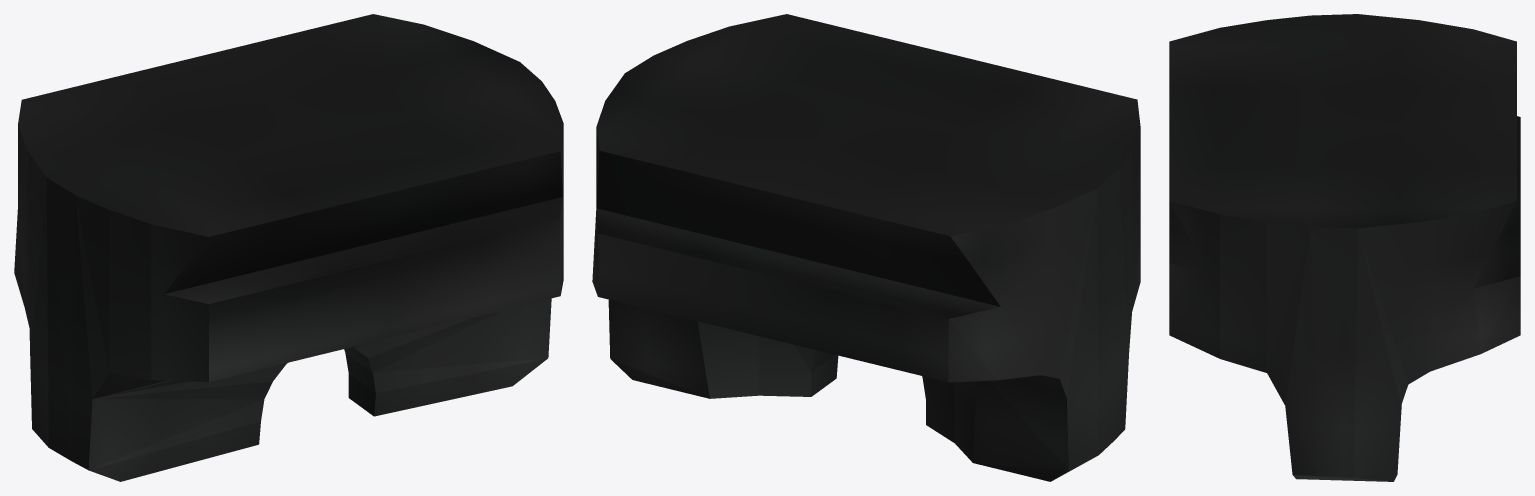
3 renders of one model, left to right at view 1: azimuth 30°, elevation 25°; view 2: azimuth 150°, elevation 25°; view 3: azimuth 270°, elevation 25°, orthographic. The views are drawn at different scales.
Parts seen in each view (by area): view 1: TW_57a9b9ce2459770ee926038d_PZ_Import; view 2: TW_57a9b9ce2459770ee926038d_PZ_Import; view 3: TW_57a9b9ce2459770ee926038d_PZ_Import.
Boxes of the visible parts, left/top/right/bottom form: TW_57a9b9ce2459770ee926038d_PZ_Import: left=14, top=14, right=563, bottom=481; TW_57a9b9ce2459770ee926038d_PZ_Import: left=592, top=14, right=1140, bottom=481; TW_57a9b9ce2459770ee926038d_PZ_Import: left=1169, top=14, right=1520, bottom=481.
Size of the model in its own units: 0.00809 by 0.00561 by 0.00474.
1 material, 1 textured.
